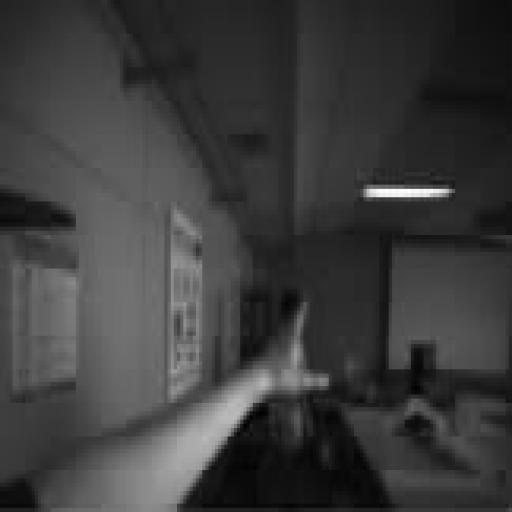human: (0, 303, 328, 511)
